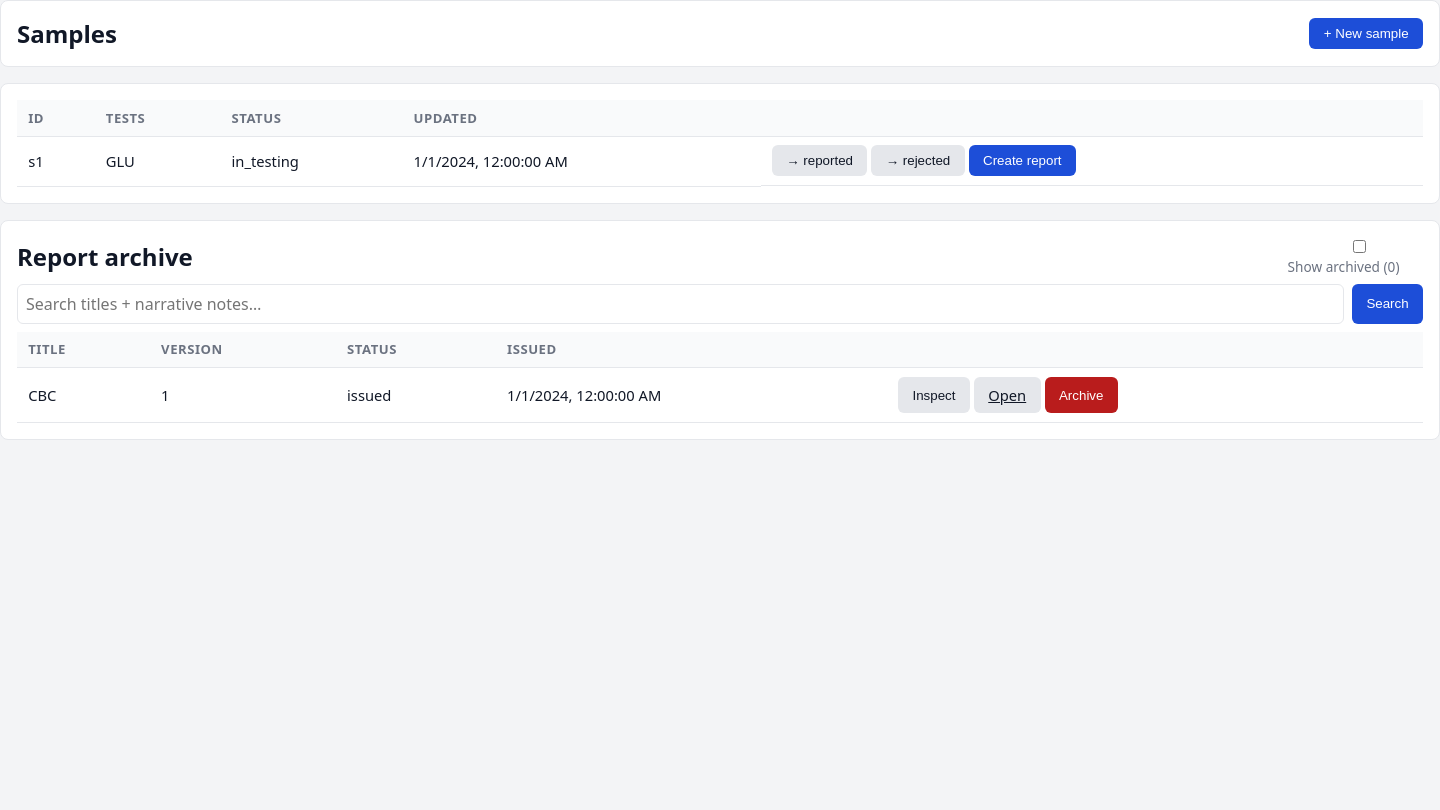
Test: LabPage › opens the new sample form and rejects empty test codes
Step 1. Click the button "+ New sample" → (1366, 34), box [1309,18,1423,49]
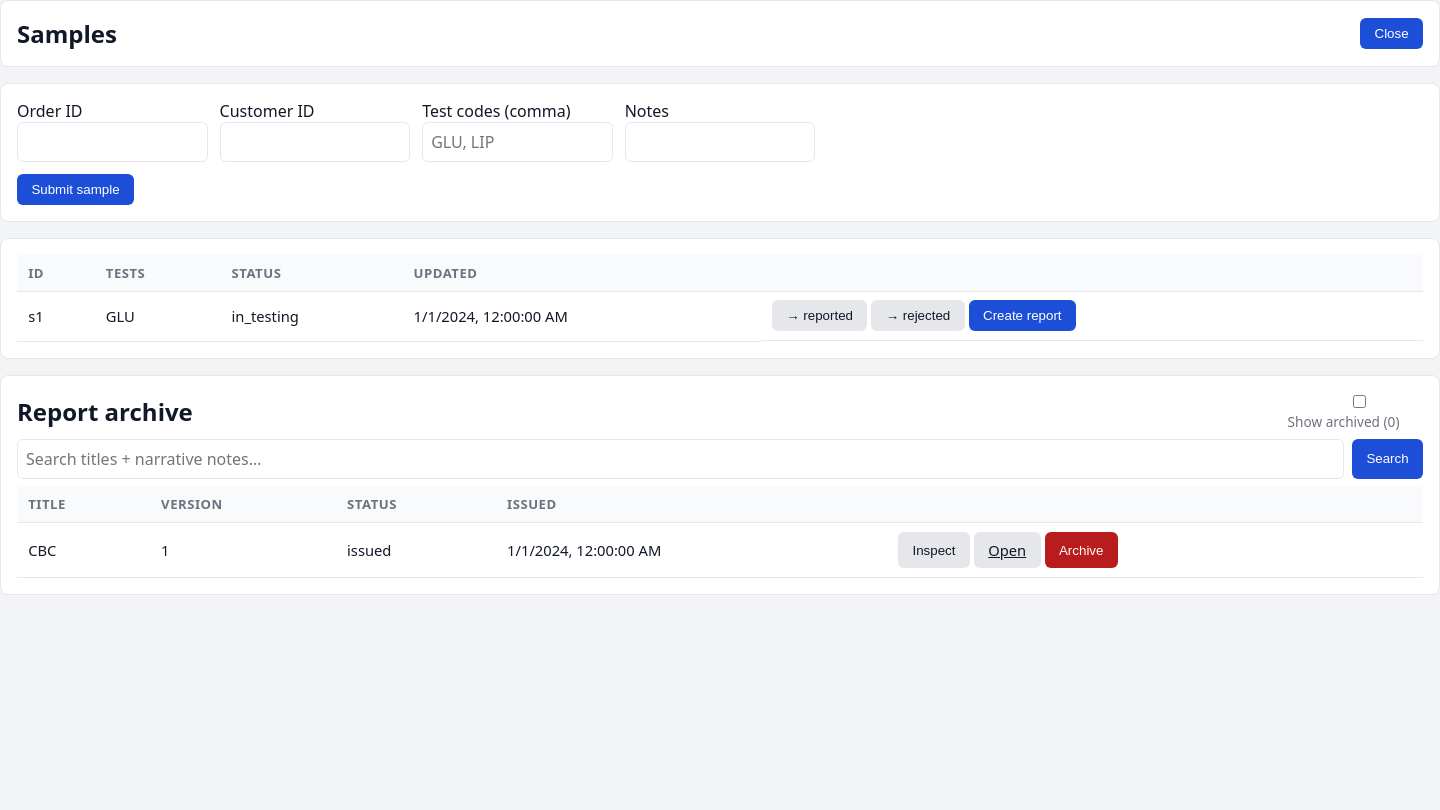
Step 2. Click the button "Submit sample" → (75, 190), box [17,174,134,205]
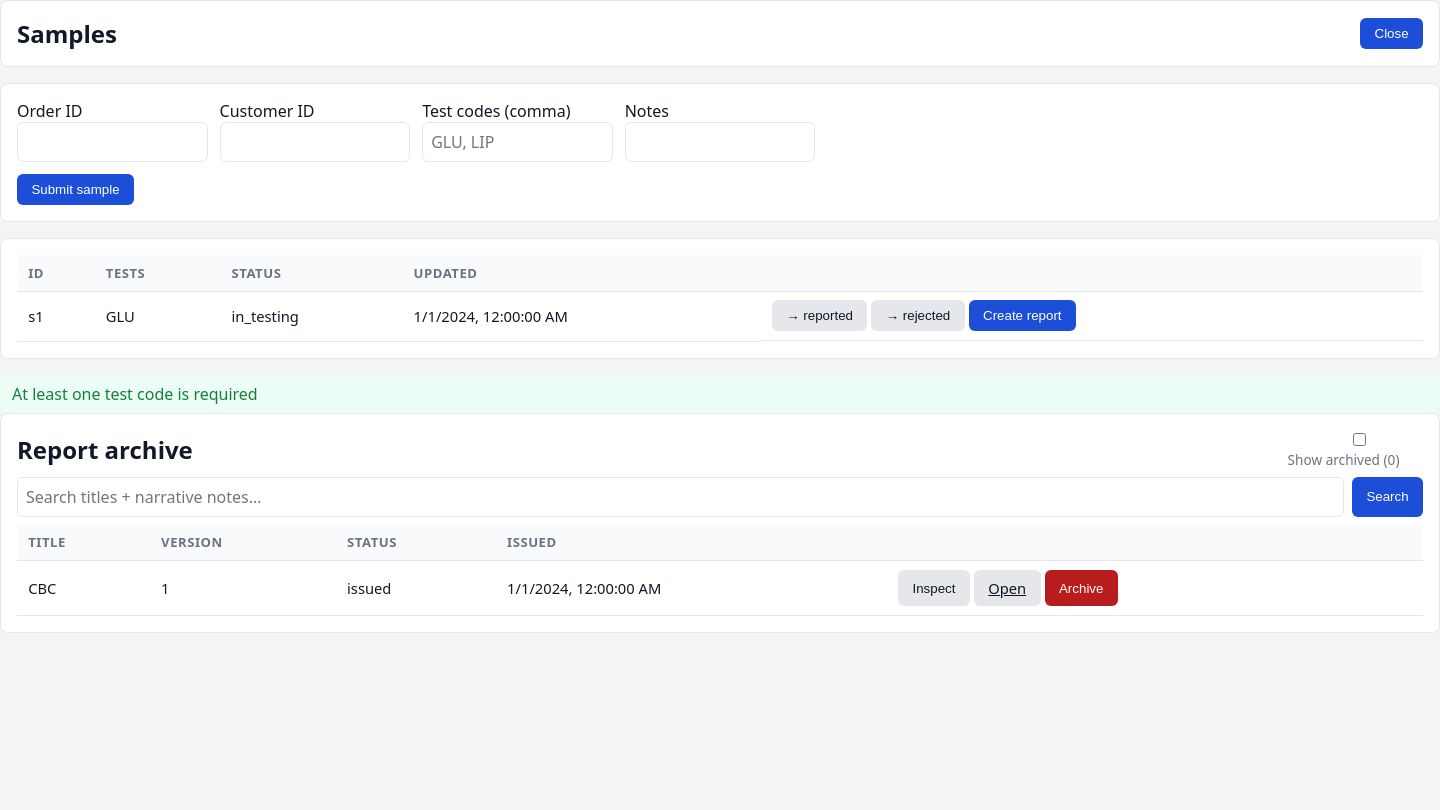
Check: the text "At least one test code is required" is shown, box [0,375,1439,413]
